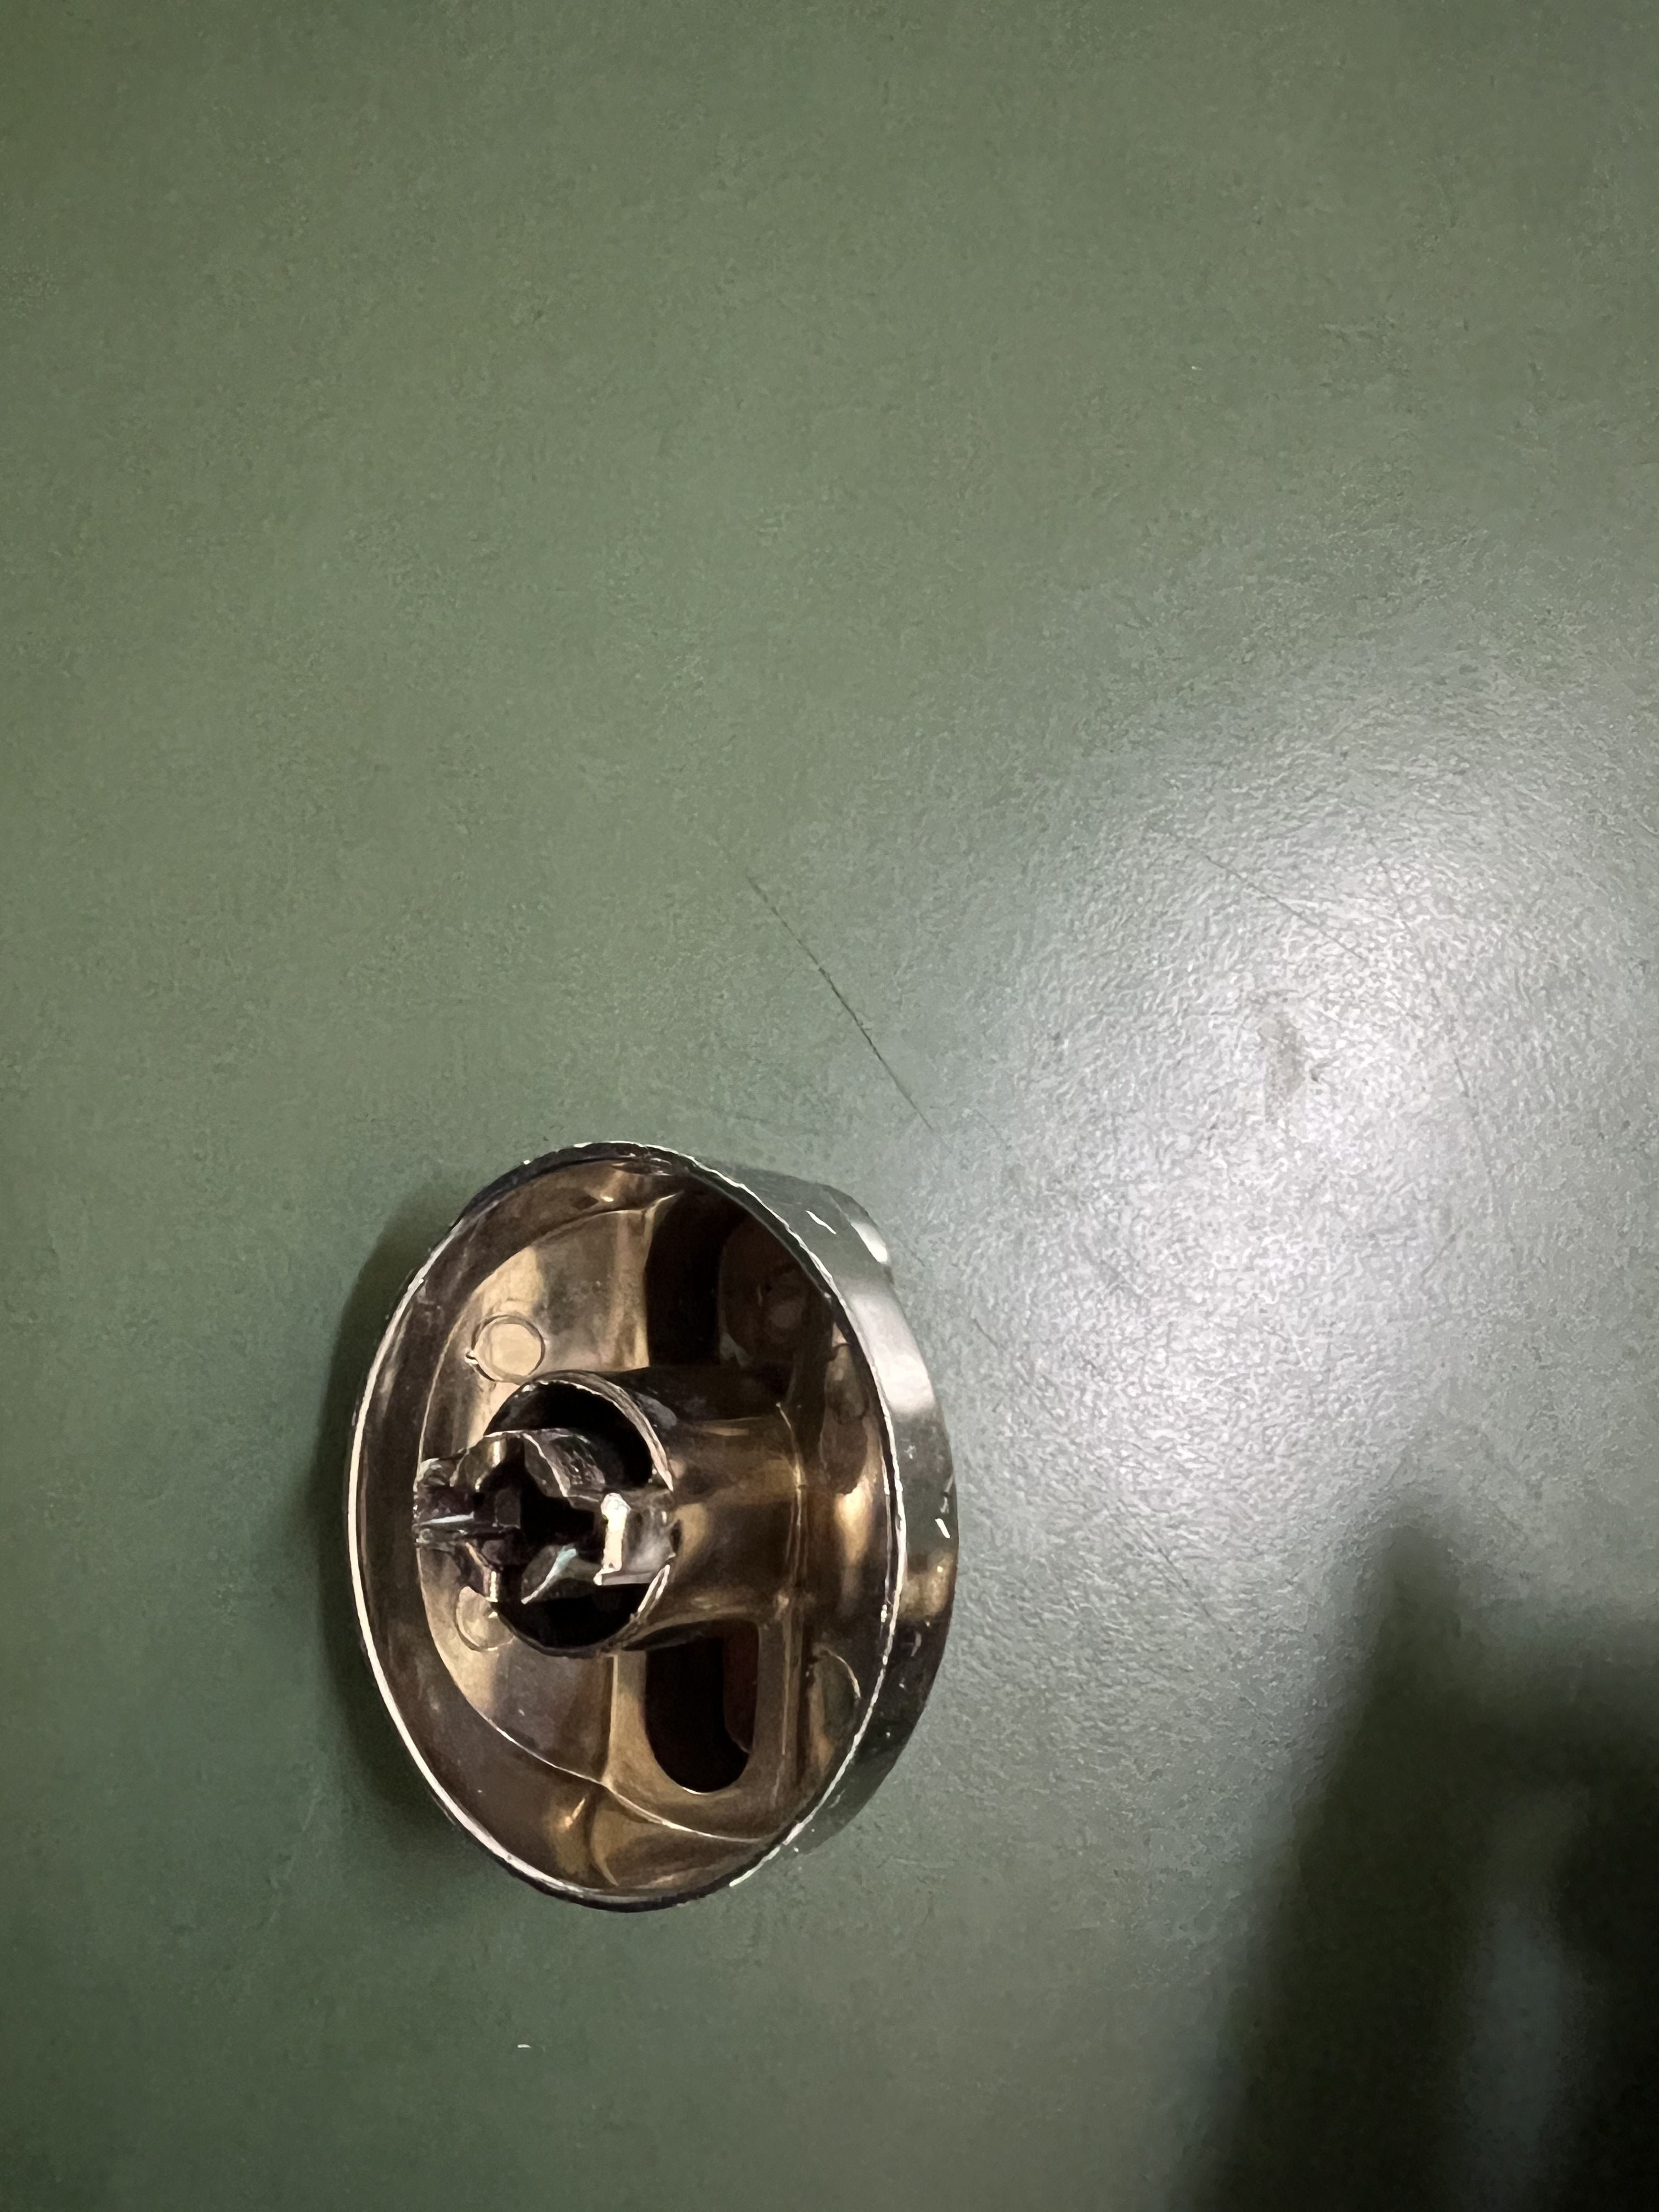regulator: (296, 1134, 1004, 1919)
